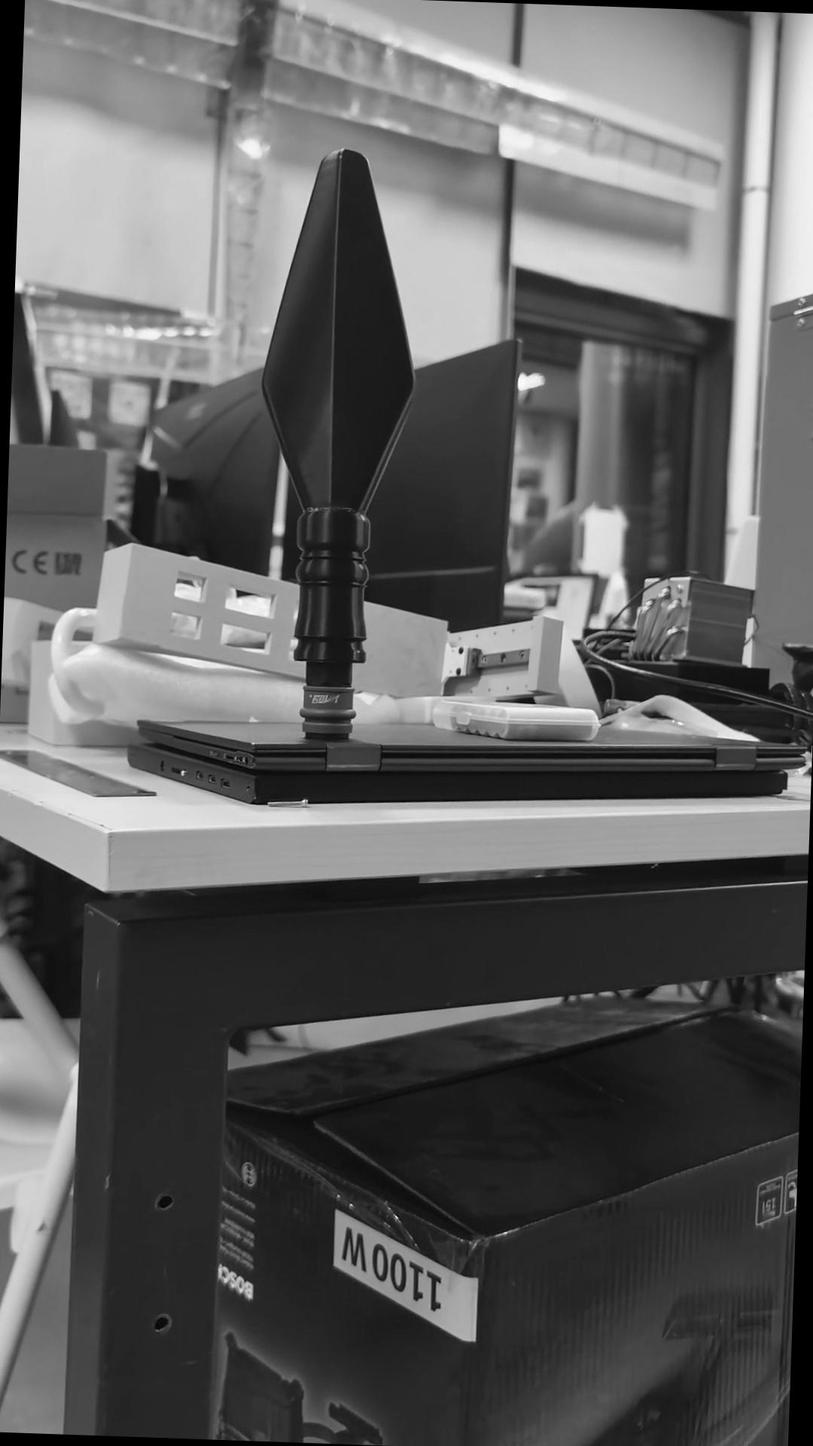base: (300, 681, 358, 743)
